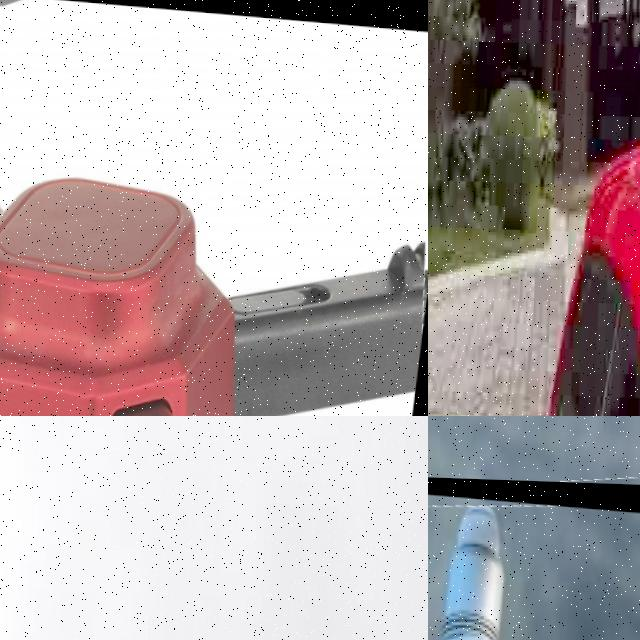drone: (0, 0, 428, 416), (428, 465, 640, 640)
